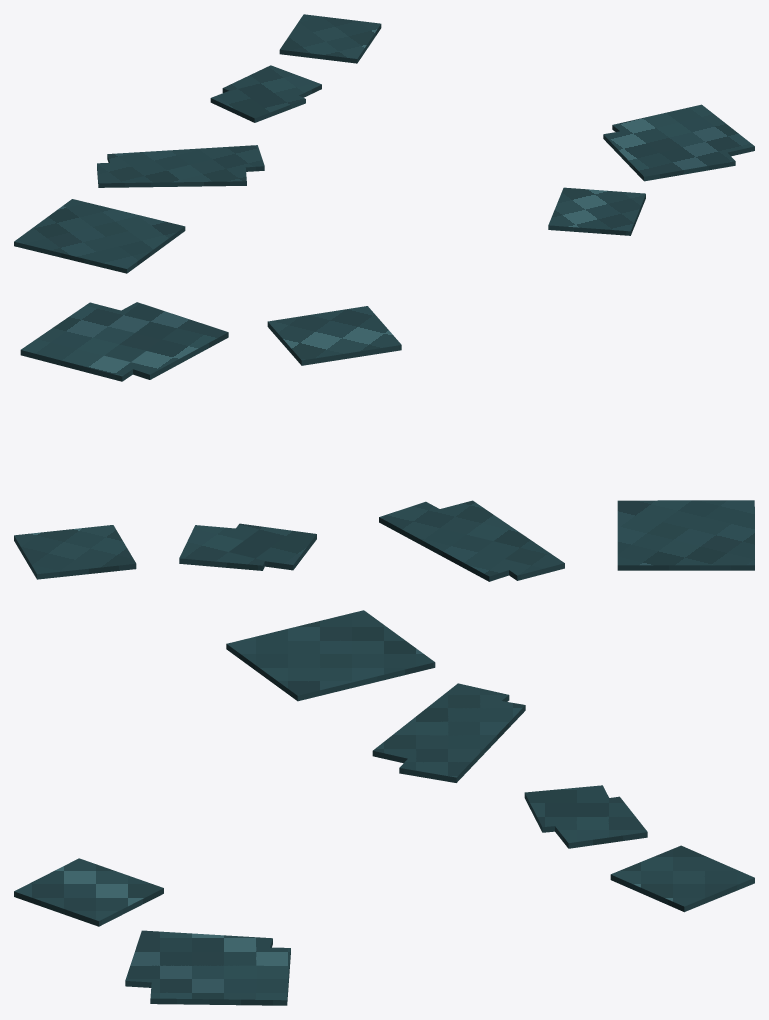
File: glass_shards.gltf
3 renders of one model, top to bottom at view 1: azimuth 30°, elevation 25°; view 2: azimuth 150°, elevation 25°; view 3: azimuth 270°, elevation 25°, orthographic. The views are drawn at different scales.
Visible parts, largest first — view 1: glass_shards; view 2: glass_shards; view 3: glass_shards.
Part boxes in pixels (<box>): glass_shards: <box>14,14,754,273</box>; glass_shards: <box>14,302,754,581</box>; glass_shards: <box>14,610,754,1005</box>.
Size of the model in its own units: 0.9001 by 0.006 by 0.7226.
Materials: 1 (1 with a texture image).
